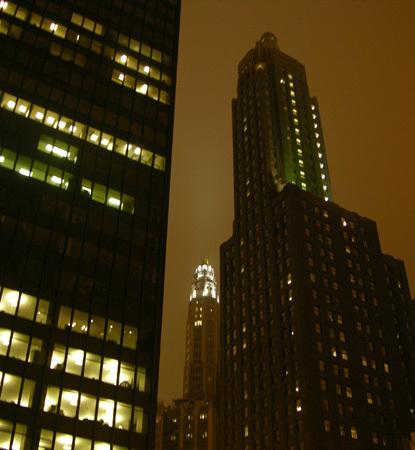building: (0, 0, 186, 450), (220, 30, 415, 450), (163, 258, 220, 450)
